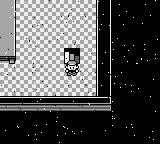main: (65, 61, 79, 75)
no-caminable: (0, 1, 159, 143), (0, 97, 111, 111), (96, 0, 111, 97), (0, 0, 15, 64)
puerta: (64, 48, 80, 62)
